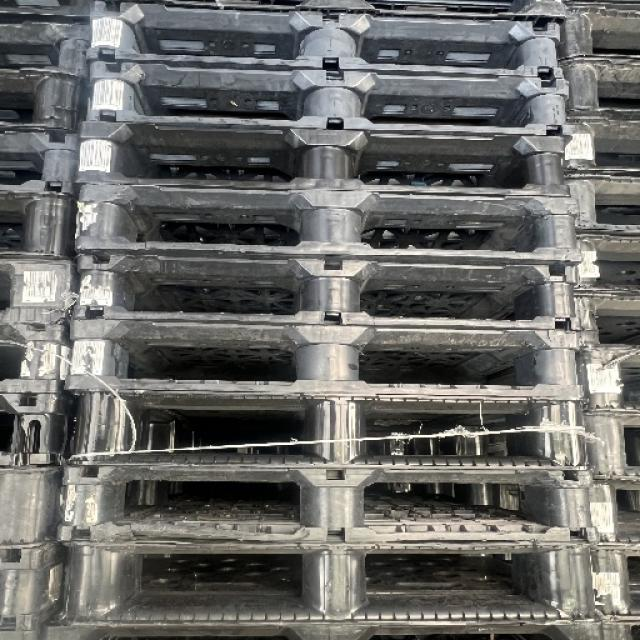igps: (49, 536, 604, 630), (60, 311, 588, 408), (58, 384, 594, 476), (67, 176, 586, 270), (54, 463, 603, 551), (78, 47, 574, 144), (66, 245, 586, 337), (65, 116, 576, 202), (77, 0, 572, 87), (35, 614, 610, 640), (158, 0, 578, 25), (542, 51, 640, 130), (0, 458, 75, 558), (0, 387, 83, 476), (0, 17, 98, 92), (0, 533, 72, 635), (0, 60, 96, 136), (547, 166, 640, 241), (0, 251, 83, 329), (0, 188, 82, 264), (556, 110, 640, 184), (0, 126, 84, 199), (0, 318, 76, 398), (551, 0, 639, 68), (570, 339, 640, 421), (568, 225, 640, 302), (584, 530, 640, 626), (576, 405, 640, 487), (566, 286, 640, 354), (580, 470, 640, 552), (0, 0, 97, 19), (592, 602, 640, 640)
